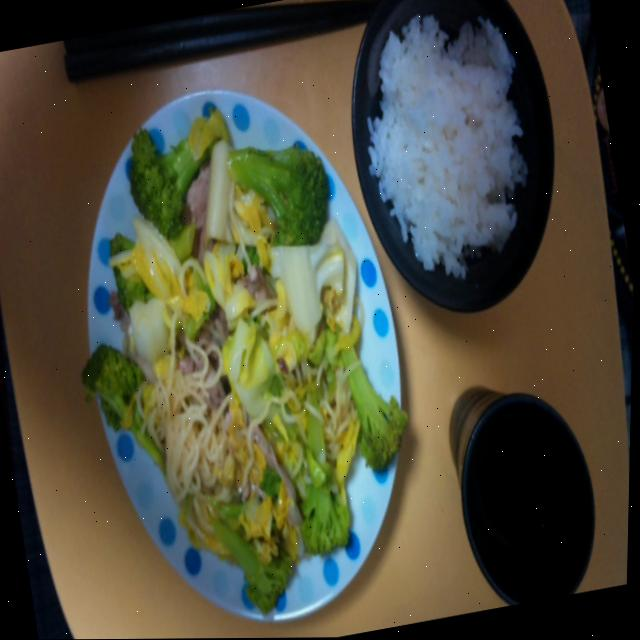米饭主食: (311, 0, 601, 352)
